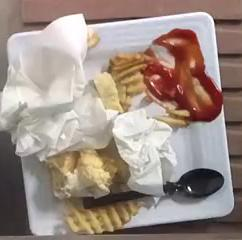fries: (108, 53, 153, 112), (66, 200, 141, 234), (155, 100, 190, 127), (94, 74, 104, 97)
